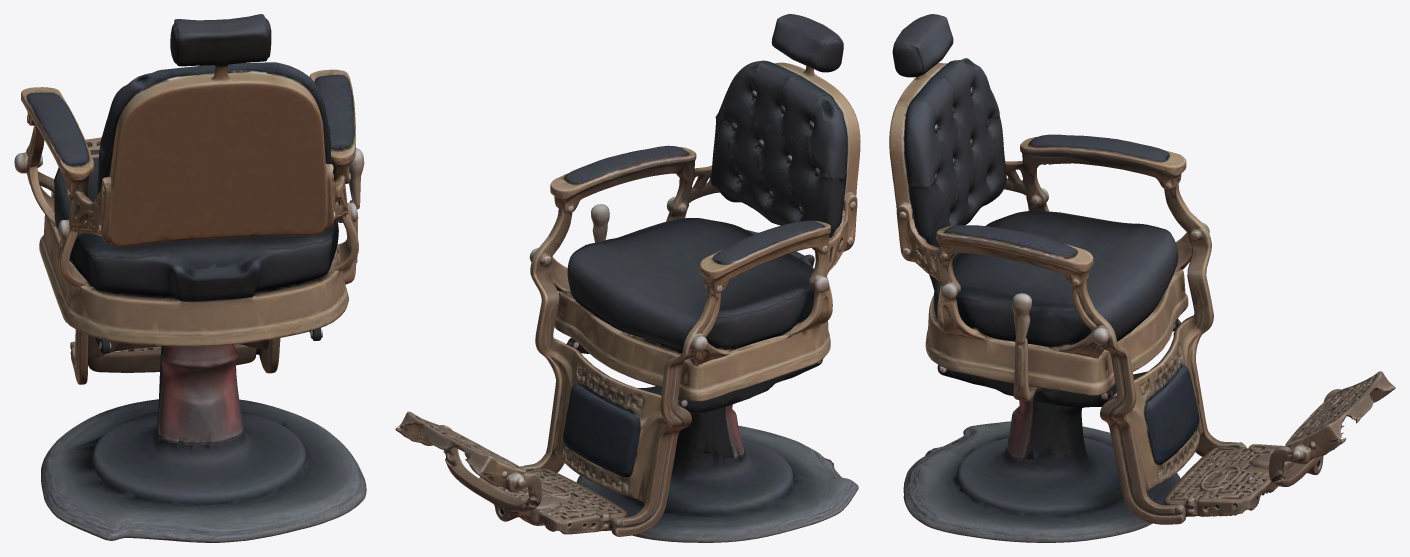
Rendered from kreslo-tripo-1-web.glb.
3 renders of one model, left to right at view 1: azimuth 30°, elevation 25°; view 2: azimuth 150°, elevation 25°; view 3: azimuth 270°, elevation 25°, orthographic. The views are drawn at different scales.
Parts seen in each view (by area): view 1: tripo_node_cf32f8e3-2b69-4ec3-a19f-1d663cdb9711; view 2: tripo_node_cf32f8e3-2b69-4ec3-a19f-1d663cdb9711; view 3: tripo_node_cf32f8e3-2b69-4ec3-a19f-1d663cdb9711.
Part boxes in pixels (x1,y1,x2,y2): tripo_node_cf32f8e3-2b69-4ec3-a19f-1d663cdb9711: [14, 14, 366, 542]; tripo_node_cf32f8e3-2b69-4ec3-a19f-1d663cdb9711: [395, 14, 860, 542]; tripo_node_cf32f8e3-2b69-4ec3-a19f-1d663cdb9711: [889, 14, 1395, 542].
Bounding box in the file's own units: 0.6686 × 0.9416 × 0.9845.
1 material, 1 textured.
